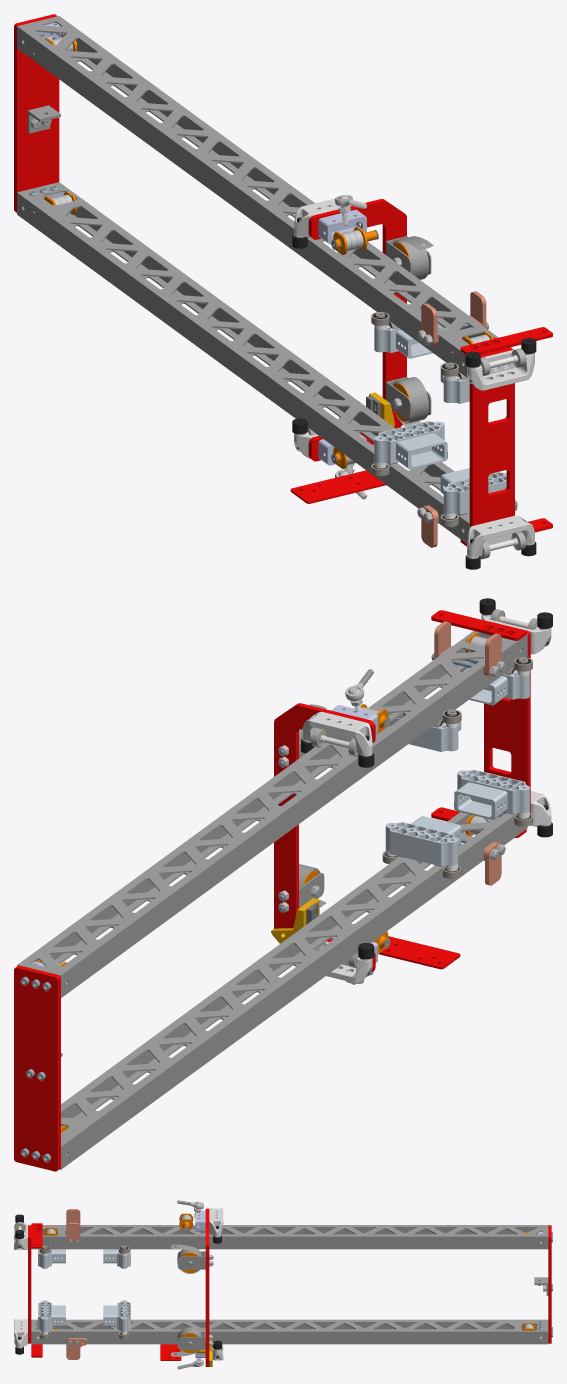
3 views of the same model, one above another, from view 1: azimuth 30°, elevation 25°; view 2: azimuth 150°, elevation 25°; view 3: azimuth 270°, elevation 25° (orthographic). The views are drawn at different scales.
Visible parts, largest first — view 1: FRONT Tube 2"x1"x37", BACK Tube 2"x1"x37", WCP-0199-001 Rev2 (×4), SDS Elevator Block (×3), 2nd Stage Bottom Cross, 2nd Stage Top Crossbar, Crossbar, 9293K21_Constant-Force Spring (×2), Energy Chain Attachment, FRONT 1st Stage Const Force Attach Plate, SDS Tube Plug, 2 X 1, 0.0625; view 2: FRONT Tube 2"x1"x37", BACK Tube 2"x1"x37", 2nd Stage Top Crossbar, WCP-0199-001 Rev2 (×4), SDS Elevator Block (×4), Crossbar, 2nd Stage Bottom Cross, Energy Chain Attachment, FRONT 1st Stage Const Force Attach Plate; view 3: BACK Tube 2"x1"x37", FRONT Tube 2"x1"x37", WCP-0199-001 Rev2 (×4), SDS Elevator Block (×4), 1st Stage Constant Force Spring Attach (×2), Crossbar, 9293K21_Constant-Force Spring (×2), 2nd Stage Top Crossbar, 2nd Stage Bottom Cross, Magnet Hardstop, Energy Chain Attachment, FRONT 1st Stage Const Force Attach Plate (+1 smaller).
Boxes of the visible parts, x1,y1,x2,y2 form: FRONT Tube 2"x1"x37": (17,16,511,377); BACK Tube 2"x1"x37": (17,182,469,543); WCP-0199-001 Rev2 (×4): (374,323,506,514); SDS Elevator Block (×3): (292,198,536,569); 2nd Stage Bottom Cross: (469,347,514,527); 2nd Stage Top Crossbar: (14,14,59,212); Crossbar: (308,199,406,461); 9293K21_Constant-Force Spring (×2): (392,236,433,426); Energy Chain Attachment: (290,470,386,503); FRONT 1st Stage Const Force Attach Plate: (460,327,552,354); SDS Tube Plug, 2 X 1, 0.0625: (318,209,366,243); FRONT Tube 2"x1"x37": (17,629,527,997); BACK Tube 2"x1"x37": (59,812,527,1169); 2nd Stage Top Crossbar: (14,965,60,1171); WCP-0199-001 Rev2 (×4): (385,667,529,866); SDS Elevator Block (×4): (301,598,552,983); Crossbar: (274,703,375,971); 2nd Stage Bottom Cross: (484,621,530,813); Energy Chain Attachment: (378,936,460,969); FRONT 1st Stage Const Force Attach Plate: (431,610,526,640); BACK Tube 2"x1"x37": (31,1319,548,1344); FRONT Tube 2"x1"x37": (31,1225,548,1249); WCP-0199-001 Rev2 (×4): (38,1249,130,1331); SDS Elevator Block (×4): (14,1208,223,1360); 1st Stage Constant Force Spring Attach (×2): (177,1251,205,1349); Crossbar: (205,1208,209,1366); 9293K21_Constant-Force Spring (×2): (171,1244,202,1356); 2nd Stage Top Crossbar: (548,1225,551,1343); 2nd Stage Bottom Cross: (28,1225,31,1343); Magnet Hardstop: (66,1338,87,1359); Energy Chain Attachment: (160,1344,181,1360); FRONT 1st Stage Const Force Attach Plate: (31,1223,42,1248).
Bounding box in the file's own units: 0.1691 × 0.3393 × 0.9802.
